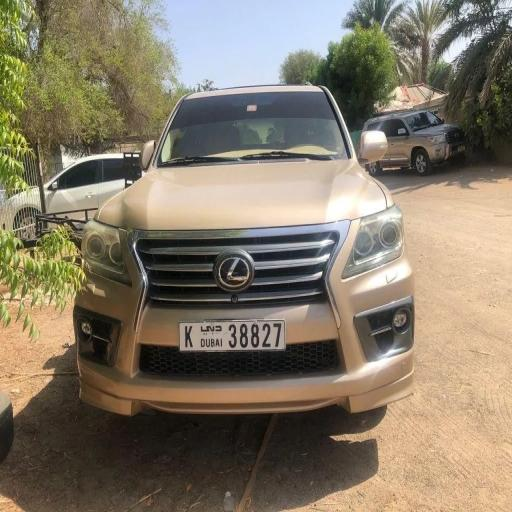license-plates: (178, 320, 286, 351)
